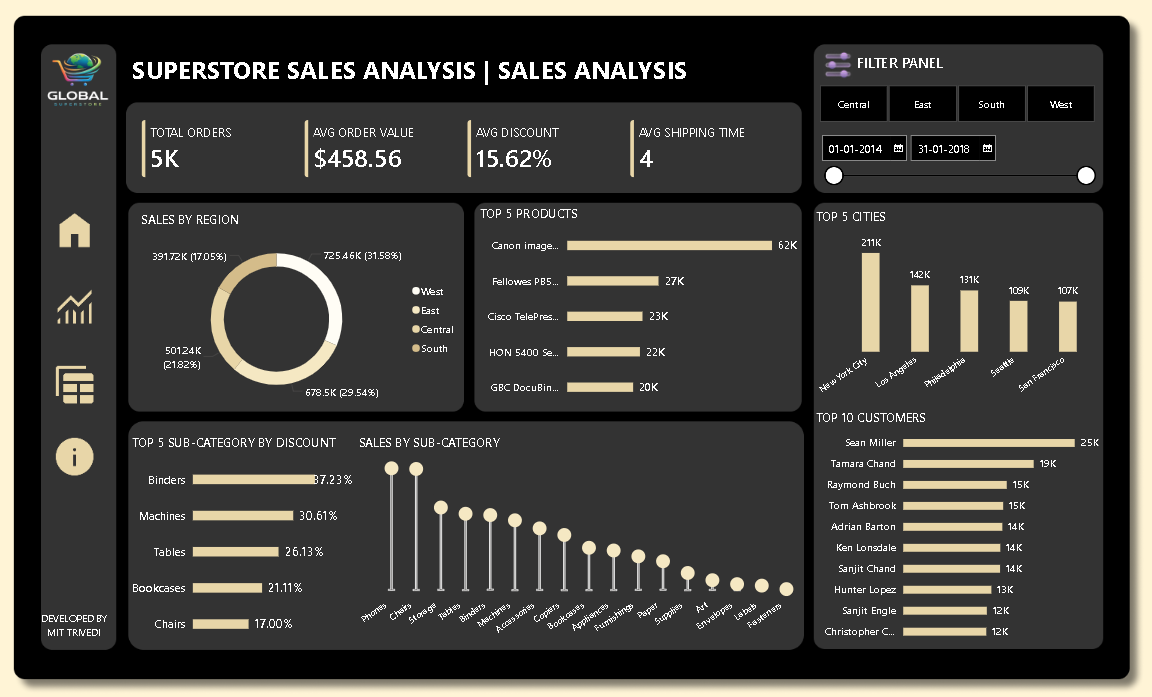

This screenshot's page, from the dashboard's own definition file:
{"tool":"powerbi","page":{"name":"SALES ANALYSIS","canvas":[1600,1000],"ordinal":1},"visuals":[{"type":"textbox","box":[200,94,768,60],"z":0},{"type":"cardVisual","fields":{"Data":["ALL MEASURES.TOTAL ORDERS","ALL MEASURES.AVG ORDER VALUE","ALL MEASURES.AVG DISCOUNT","ALL MEASURES.AVG SHIPPING TIME"]},"box":[200,171.7,891.7,110],"z":1000},{"type":"donutChart","title":"SALES BY REGION","fields":{"Y":["Orders.Sales"],"Category":["Orders.Region"]},"box":[212,308,434,266],"z":2000},{"type":"lineChart","title":"SALES BY SUB-CATEGORY","fields":{"Category":["Product.Sub-Category"],"Y":["Orders.Sales"]},"box":[502,604,590,284],"z":3000},{"type":"clusteredBarChart","title":"TOP 10 CUSTOMERS","fields":{"Category":["Customer.Customer Name"],"Y":["Orders.Sales"]},"box":[1108,570,384,318],"z":4000},{"type":"clusteredBarChart","title":"TOP 5 SUB-CATEGORY BY DISCOUNT","fields":{"Category":["Product.Sub-Category"],"Y":["Orders.Discount"]},"box":[200,604,302,284],"z":5000},{"type":"barChart","title":"TOP 5 PRODUCTS","fields":{"Category":["Product.Product Name"],"Y":["Orders.Sales"]},"box":[662,300,430,274],"z":6000},{"type":"textbox","box":[1162,94,128,42],"z":7000},{"type":"image","box":[1122,96,40,40],"z":8000},{"type":"slicer","fields":{"Values":["Orders.Region"]},"box":[1092,136,414,62],"z":9000},{"type":"slicer","fields":{"Values":["Order_Date.Date"]},"box":[1108,198,384,84],"z":10000},{"type":"image","box":[100,406,60,60],"z":11000},{"type":"image","box":[100,304,60,60],"z":12000},{"type":"image","box":[100,510,60,60],"z":13000},{"type":"image","box":[68,54,132,172],"z":14000},{"type":"columnChart","title":"TOP 5 CITIES","fields":{"Category":["Customer.City"],"Y":["Orders.Sales"]},"box":[1108,304,384,266],"z":15000},{"type":"textbox","box":[54,834,150,54],"z":16000},{"type":"image","box":[100,604,60,60],"z":17000}]}

Visuals, with their boxes on the page's 1600x1000 design canvas (x1, y1, x2, y2). These are canvas units, not pixel positions in the 1152x697 screenshot, which may show the page scaled, cropped or inside an application window:
textbox: bbox(200, 94, 968, 154)
cardVisual - ALL MEASURES.TOTAL ORDERS x ALL MEASURES.AVG ORDER VALUE: bbox(200, 172, 1092, 282)
"SALES BY REGION" donutChart: bbox(212, 308, 646, 574)
"SALES BY SUB-CATEGORY" lineChart: bbox(502, 604, 1092, 888)
"TOP 10 CUSTOMERS" clusteredBarChart: bbox(1108, 570, 1492, 888)
"TOP 5 SUB-CATEGORY BY DISCOUNT" clusteredBarChart: bbox(200, 604, 502, 888)
"TOP 5 PRODUCTS" barChart: bbox(662, 300, 1092, 574)
textbox: bbox(1162, 94, 1290, 136)
image: bbox(1122, 96, 1162, 136)
slicer - Orders.Region: bbox(1092, 136, 1506, 198)
slicer - Order_Date.Date: bbox(1108, 198, 1492, 282)
image: bbox(100, 406, 160, 466)
image: bbox(100, 304, 160, 364)
image: bbox(100, 510, 160, 570)
image: bbox(68, 54, 200, 226)
"TOP 5 CITIES" columnChart: bbox(1108, 304, 1492, 570)
textbox: bbox(54, 834, 204, 888)
image: bbox(100, 604, 160, 664)
